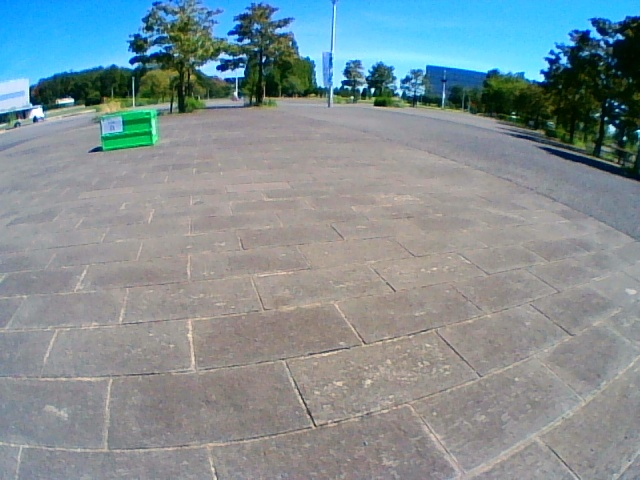green_box: (101, 110, 158, 152)
tag: (104, 118, 120, 131)
